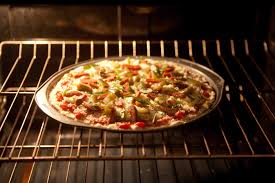pizza: (52, 59, 219, 132)
